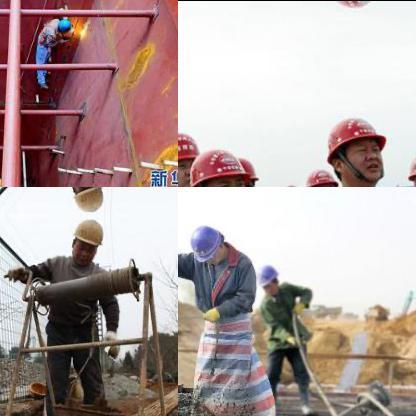Helmet: (326, 111, 386, 185), (183, 147, 248, 186), (66, 214, 106, 266), (184, 219, 226, 260), (178, 129, 199, 186), (66, 187, 106, 215), (235, 153, 259, 186), (257, 262, 279, 294), (303, 167, 338, 186), (403, 149, 415, 186), (53, 16, 71, 32), (289, 176, 313, 186)
